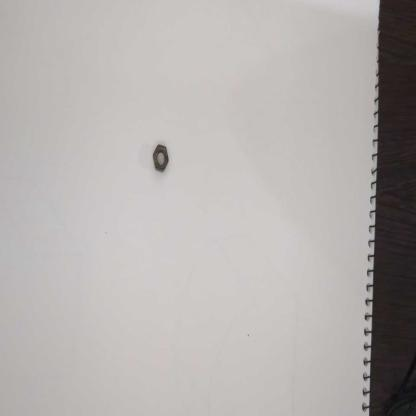NUTS: (150, 142, 170, 176)
